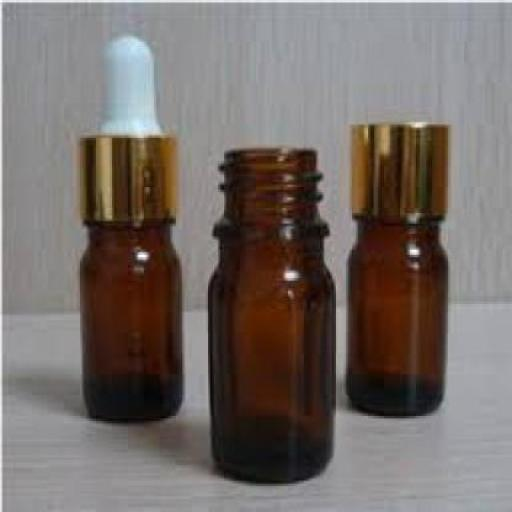glass: (204, 145, 334, 484), (76, 218, 184, 421), (342, 213, 444, 416)
metal: (74, 132, 178, 221), (350, 120, 446, 216)
plastic: (94, 34, 158, 130)
